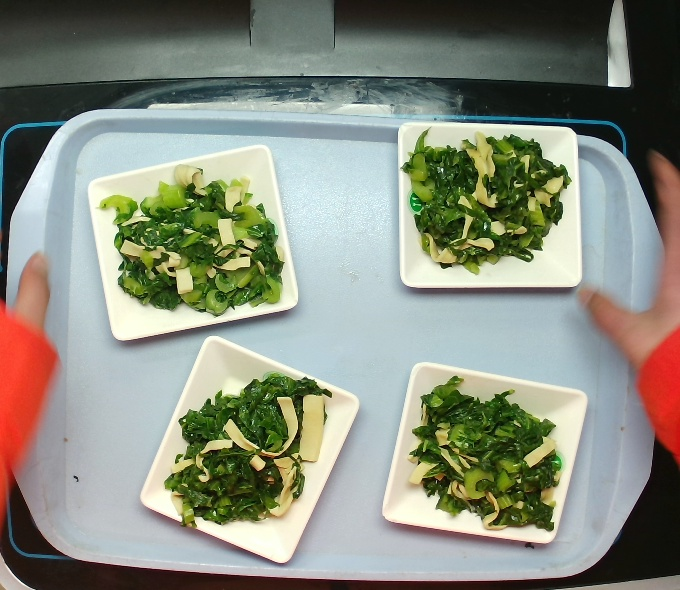wcq-QingCaiChaoQianZhang: (160, 359, 335, 539), (394, 373, 576, 540), (100, 166, 290, 322), (411, 125, 563, 282)
